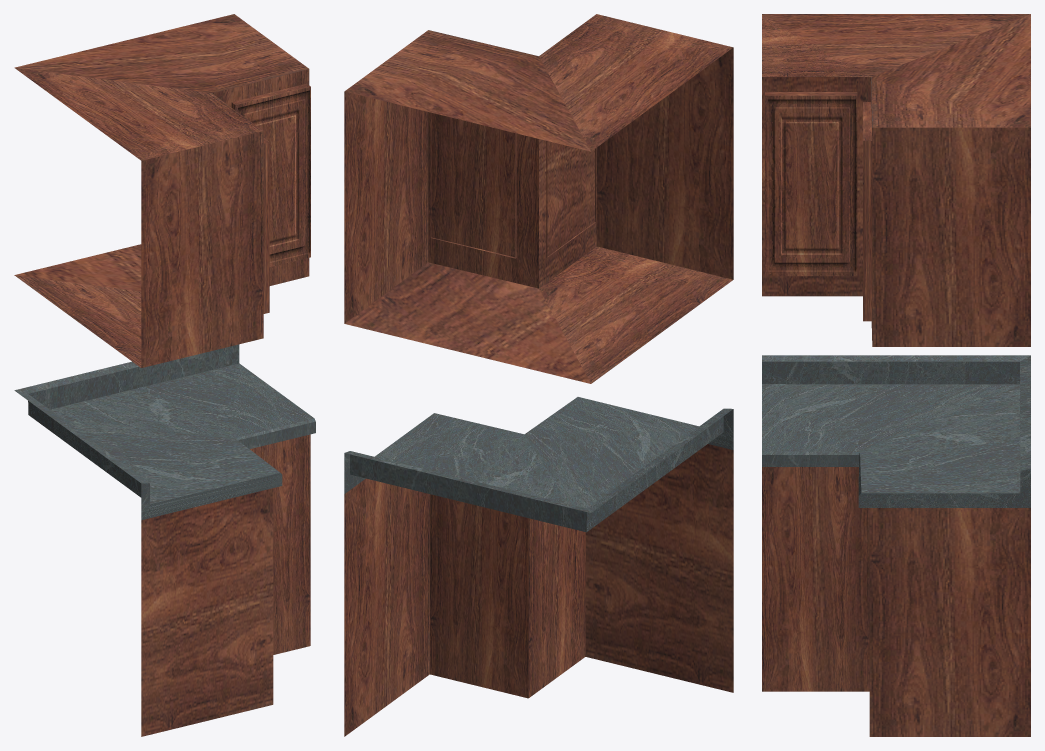
Rendered from corner_cabinet.fbx.
3 renders of one model, left to right at view 1: azimuth 30°, elevation 25°; view 2: azimuth 150°, elevation 25°; view 3: azimuth 270°, elevation 25°, orthographic. The views are drawn at different scales.
Parts seen in each view (by area): view 1: mesh_0; view 2: mesh_0; view 3: mesh_0.
Part boxes in pixels (x1,y1,x2,y2): mesh_0: (14,14,315,736); mesh_0: (344,14,733,736); mesh_0: (762,14,1030,736).
Size of the model in its own units: 100 by 250 by 100.
Materials: 1 (1 with a texture image).
